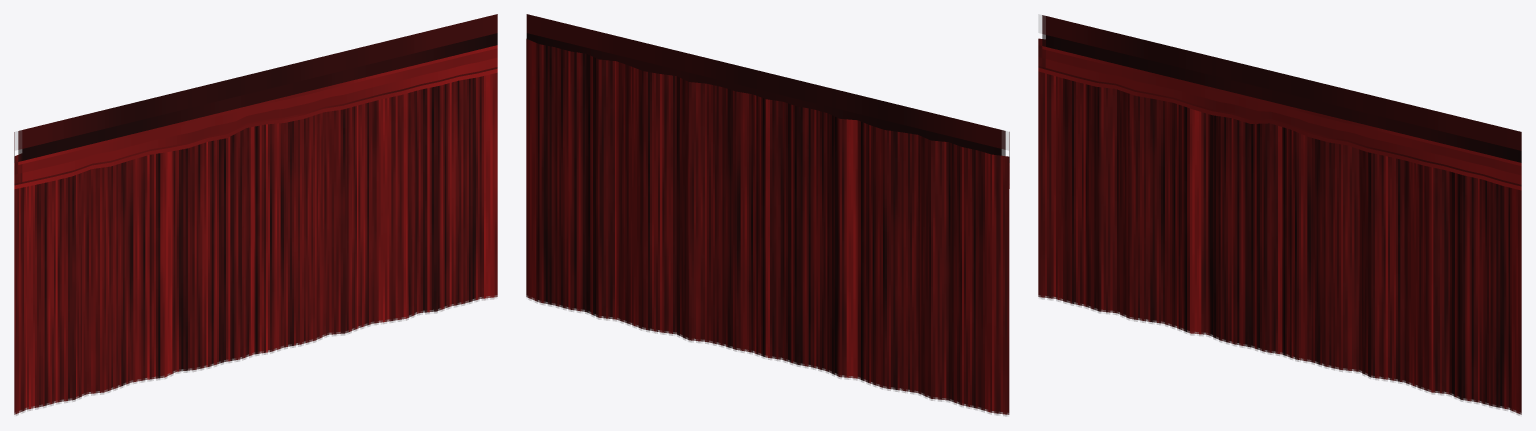
Rendered from SM_StageCurtains.glb.
The picture shows the model from 3 angles, left to right: view 1: azimuth 30°, elevation 25°; view 2: azimuth 150°, elevation 25°; view 3: azimuth 330°, elevation 25°; orthographic projection.
Parts seen in each view (by area): view 1: SM_StageCurtains; view 2: SM_StageCurtains; view 3: SM_StageCurtains.
Boxes of the visible parts, x1,y1,x2,y2 form: SM_StageCurtains: (14,14,497,415); SM_StageCurtains: (526,14,1009,416); SM_StageCurtains: (1038,15,1521,415).
Size of the model in its own units: 13.2 by 7.44 by 0.1916.
Materials: 1 (1 with a texture image).
